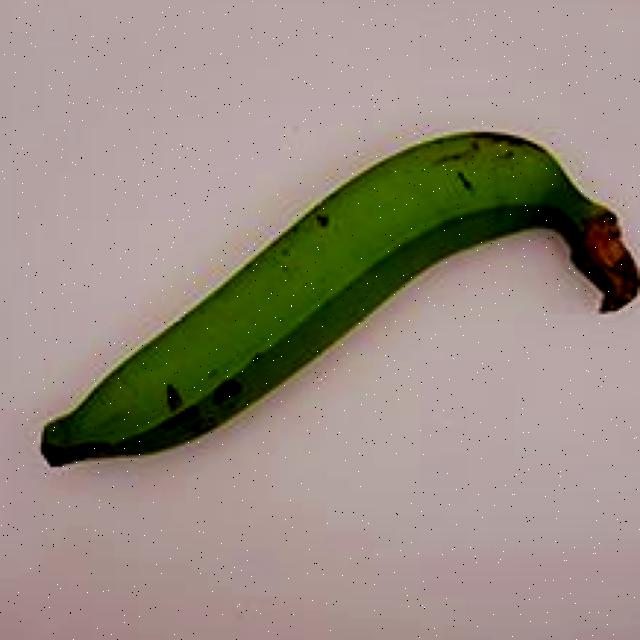Raw: (20, 102, 640, 490)
